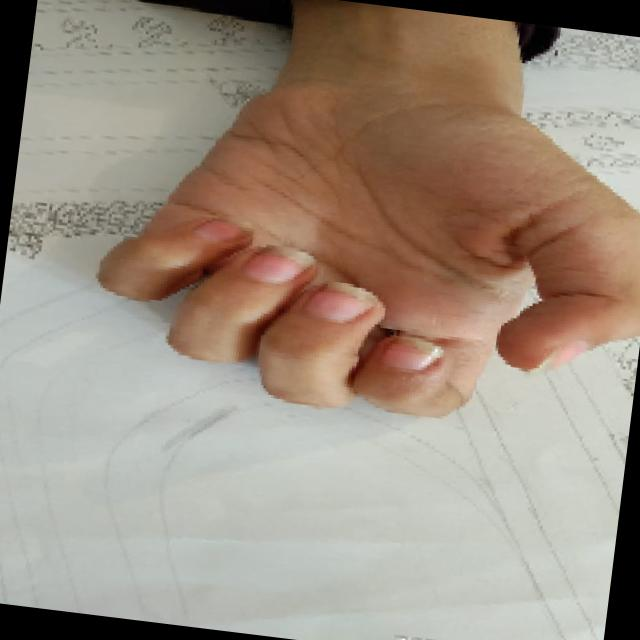Nail: (305, 281, 377, 322), (245, 245, 315, 283), (381, 335, 443, 370), (528, 340, 590, 374), (194, 211, 251, 241)
